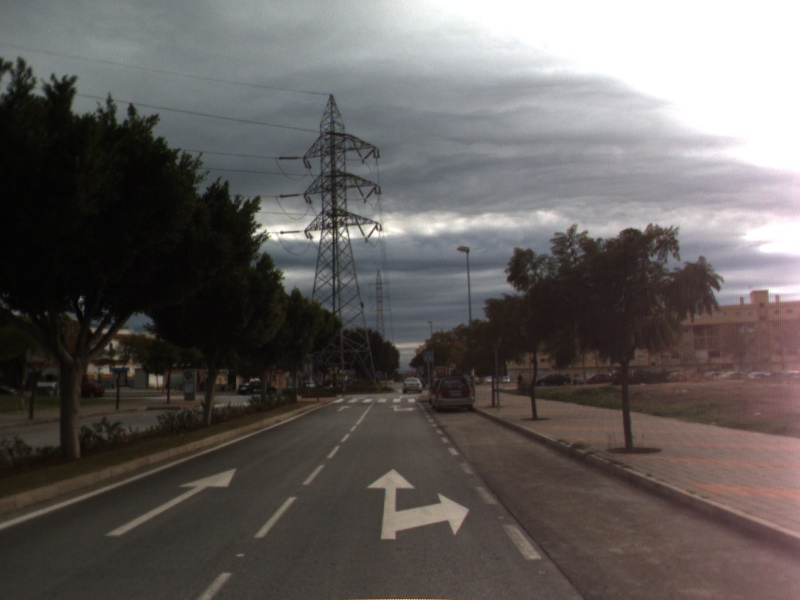STRAIGHT: (101, 466, 239, 538), (334, 403, 353, 414)
STRAIGHT_RIGHT: (364, 466, 471, 541), (387, 403, 417, 414)
